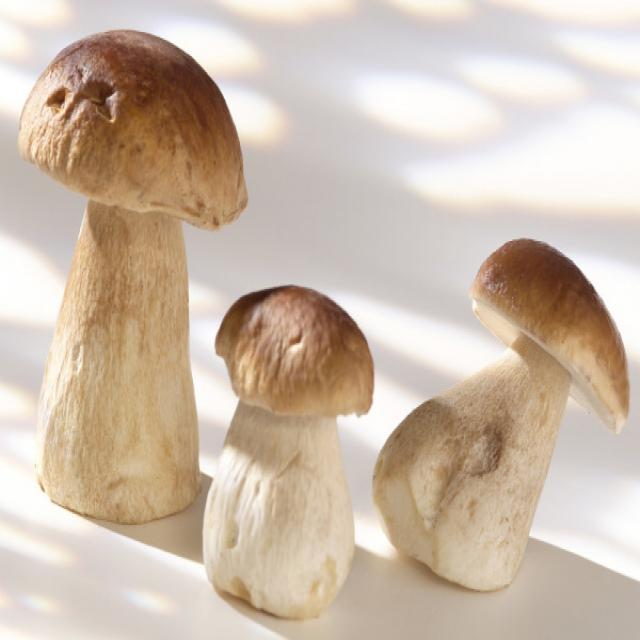Boletus: (19, 28, 246, 528), (377, 237, 629, 590), (202, 285, 373, 614)
